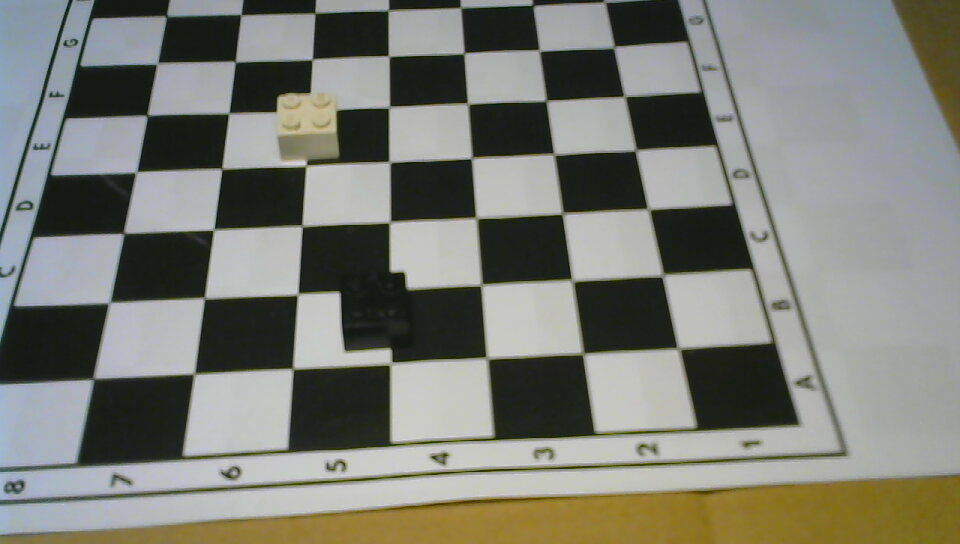bp: (337, 274, 411, 350)
wp: (275, 89, 340, 163)
